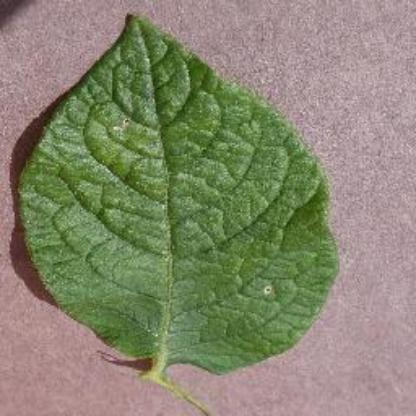Healthy-plant: (16, 9, 342, 390)
